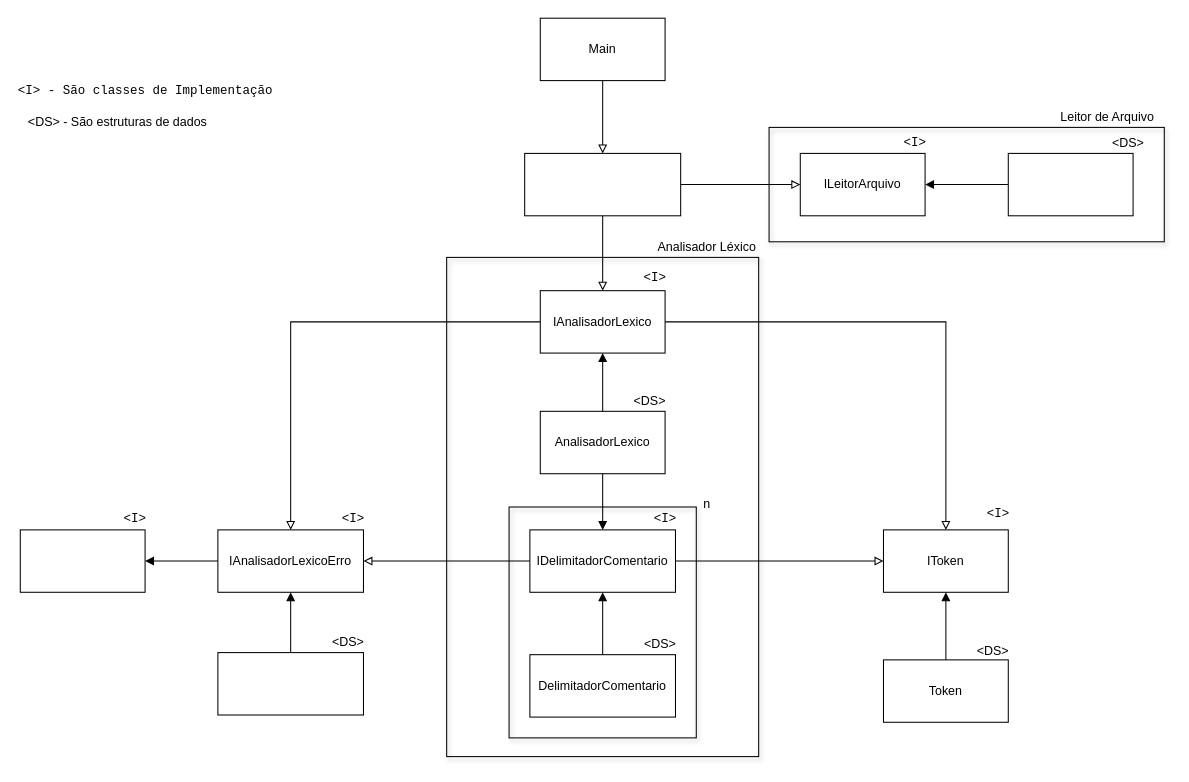
The diagram is 1189 pixels wide and 782 high, and some of its shapes have lost their labels. The centre of each missing label's shape, as x and y in pixels:
AnalisadorLexicoErro: the point at 290,683
ControladorAnaliseLexica: the point at 602,184
IErro: the point at 82,560
LeitorArquivo: the point at 1070,184
